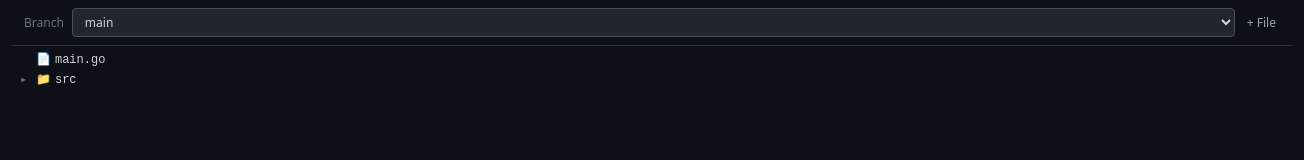
FileTree — new file › shows path input when "+ File" is clicked
What coordinates should you click on to do the following:
click the button "+ File"
I would click on:
 (1261, 22)
Its box is x1=1243 y1=14 x2=1280 y2=30.
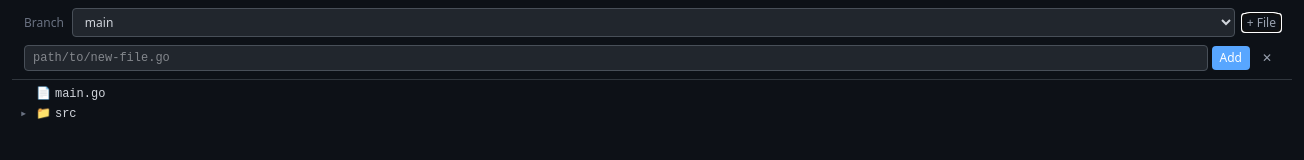
Expected: the field with placeholder "path/to/new-file.go" is shown, x1=24 y1=45 x2=1208 y2=71
